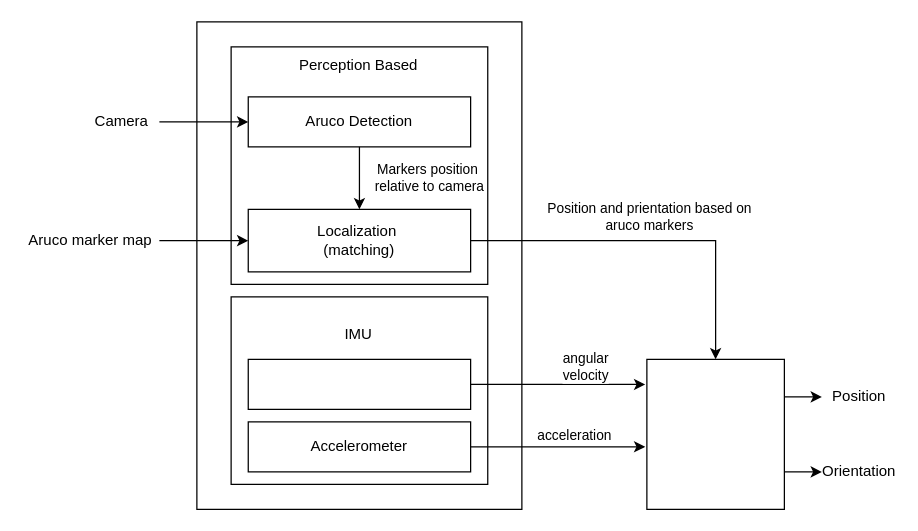
Image size: 918x531. Some labels were removed from this diagram. Here are the shapes that lost their labels. From the top down, the centre of each, then its label:
At [359,383]: "Gyroscope".
At [715,433]: "EKF (Extended Kalman Filter)".
